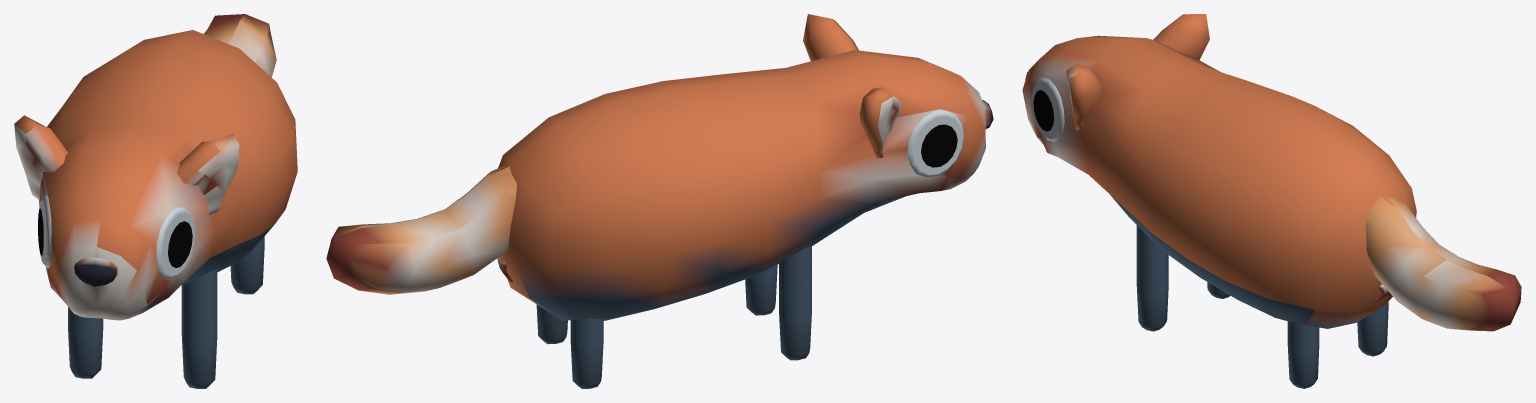
The model's file is RedPanda.glb.
3 renders of one model, left to right at view 1: azimuth 30°, elevation 25°; view 2: azimuth 150°, elevation 25°; view 3: azimuth 270°, elevation 25°, orthographic. The views are drawn at different scales.
Parts seen in each view (by area): view 1: 138; view 2: 138; view 3: 138.
Part boxes in pixels (x1=…): 138: x1=14, y1=14, x2=297, y2=388; 138: x1=326, y1=14, x2=993, y2=388; 138: x1=1022, y1=14, x2=1521, y2=388.
Bounding box in the file's own units: 0.9204 × 0.5573 × 1.
